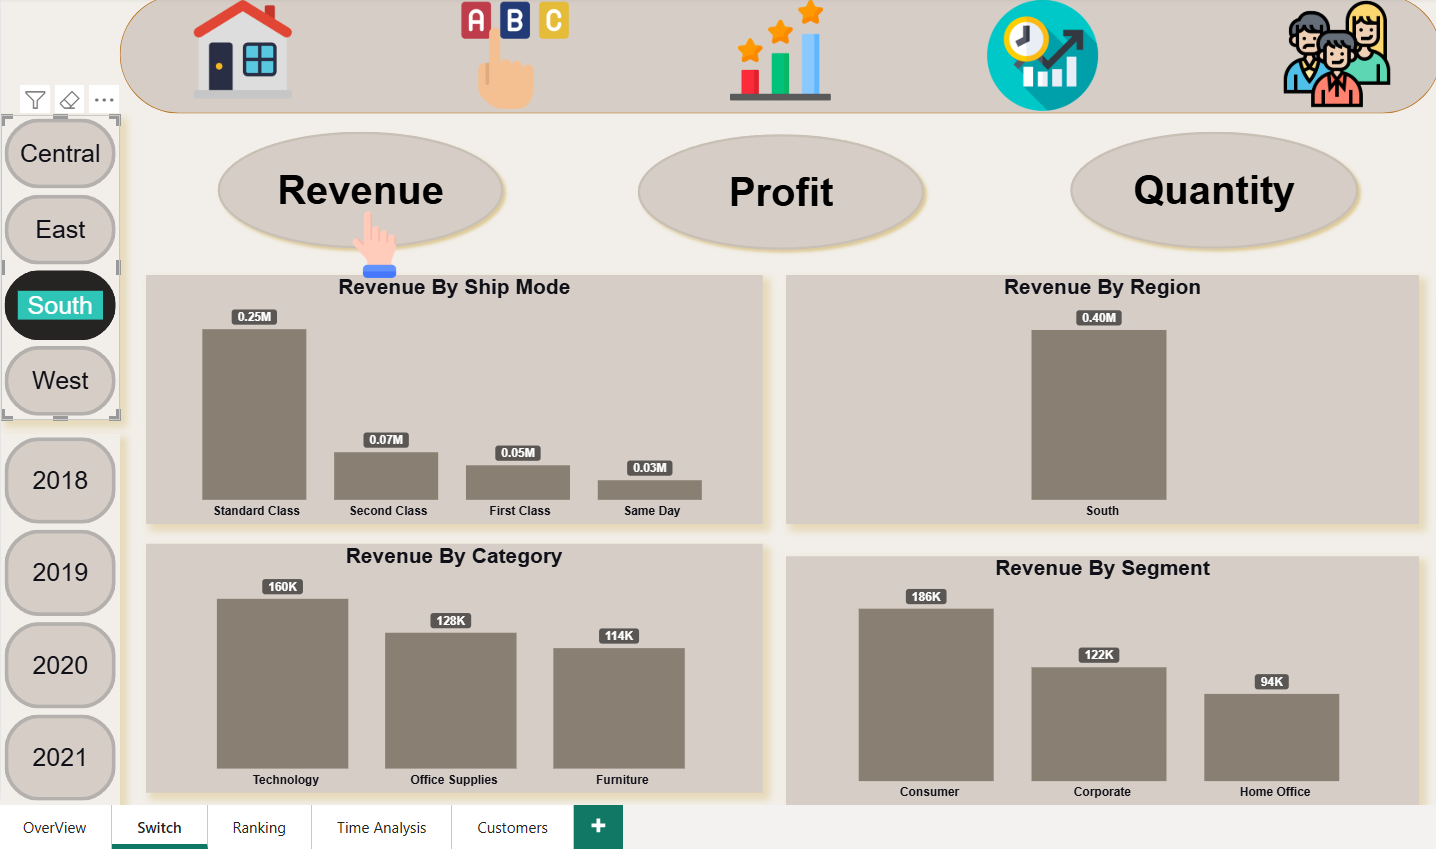

What the dashboard file says about the page in this screenshot:
{"tool":"powerbi","page":{"name":"Switch","canvas":[1920,1080],"ordinal":1},"visuals":[{"type":"shape","box":[158,0,1762,158],"z":0},{"type":"actionButton","title":"Button_qty","box":[1416,174,402,174],"z":2000},{"type":"actionButton","title":"Button_profit","box":[840,176,400,172],"z":3000},{"type":"actionButton","title":"Button_rev","box":[280.7,173.4,398.7,173.4],"z":4000},{"type":"clusteredColumnChart","title":"Qty By Ship Mode","fields":{"Category":["Dim_Order.Ship Mode"],"Y":["Dax.Total_Quantity"]},"box":[194,374,822,332],"z":9000},{"type":"clusteredColumnChart","title":"Qty By Region","fields":{"Category":["Dim_Customer.Region"],"Y":["Dax.Total_Quantity"]},"box":[1038,374,852,332],"z":11000},{"type":"clusteredColumnChart","title":"Qty By Category","fields":{"Category":["Dim_Product.Category"],"Y":["Dax.Total_Quantity"]},"box":[196,734,820,332],"z":13000},{"type":"clusteredColumnChart","title":"Qty By Segment","fields":{"Category":["Dim_Order.Segment"],"Y":["Dax.Total_Quantity"]},"box":[1038,748,852,332],"z":15000},{"type":"image","title":"Image_qty","box":[1564,246,120,204],"z":17000},{"type":"image","box":[230.7,0,184.2,144.8],"z":19000},{"type":"image","box":[606,2,158,158],"z":20000},{"type":"image","box":[1704,0,156,158],"z":21000},{"type":"image","box":[960,2,158,144],"z":22000},{"type":"image","box":[1310,2,158,158],"z":23000},{"type":"advancedSlicerVisual","fields":{"Values":["Dim_Customer.Region"]},"box":[0,160,158.3,406.7],"z":24000},{"type":"advancedSlicerVisual","fields":{"Values":["Calendar_Table.Year"]},"box":[0,585.7,158.6,494.3],"z":25000}]}

Visuals, with their boxes on the page's 1920x1080 design canvas (x1, y1, x2, y2). These are canvas units, not pixel positions in the 1436x849 screenshot, which may show the page scaled, cropped or inside an application window:
shape: box(158, 0, 1920, 158)
"Button_qty" actionButton: box(1416, 174, 1818, 348)
"Button_profit" actionButton: box(840, 176, 1240, 348)
"Button_rev" actionButton: box(281, 173, 679, 347)
"Qty By Ship Mode" clusteredColumnChart: box(194, 374, 1016, 706)
"Qty By Region" clusteredColumnChart: box(1038, 374, 1890, 706)
"Qty By Category" clusteredColumnChart: box(196, 734, 1016, 1066)
"Qty By Segment" clusteredColumnChart: box(1038, 748, 1890, 1080)
"Image_qty" image: box(1564, 246, 1684, 450)
image: box(231, 0, 415, 145)
image: box(606, 2, 764, 160)
image: box(1704, 0, 1860, 158)
image: box(960, 2, 1118, 146)
image: box(1310, 2, 1468, 160)
advancedSlicerVisual - Dim_Customer.Region: box(0, 160, 158, 567)
advancedSlicerVisual - Calendar_Table.Year: box(0, 586, 159, 1080)
